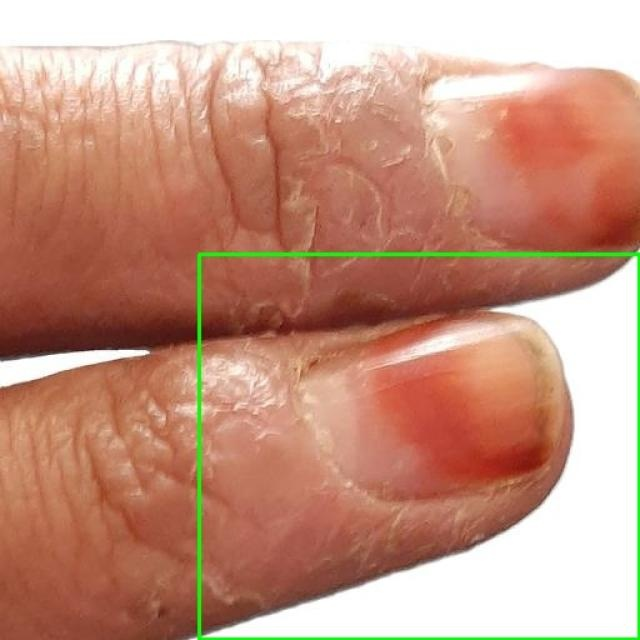Contact Dermatitis: (199, 254, 639, 639)
